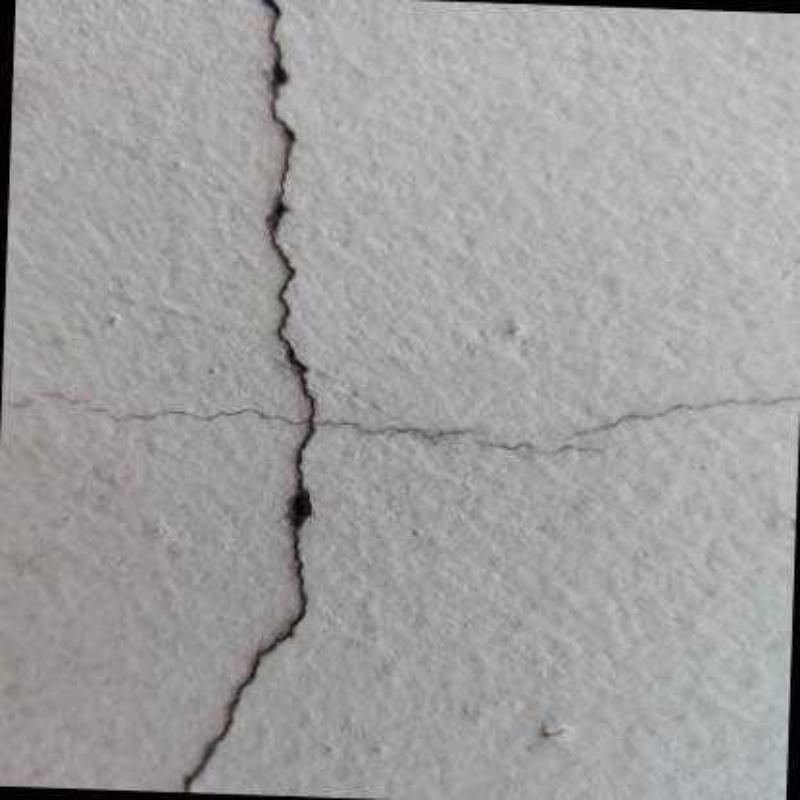crack: (181, 1, 319, 794), (0, 392, 610, 456), (565, 394, 798, 442)
